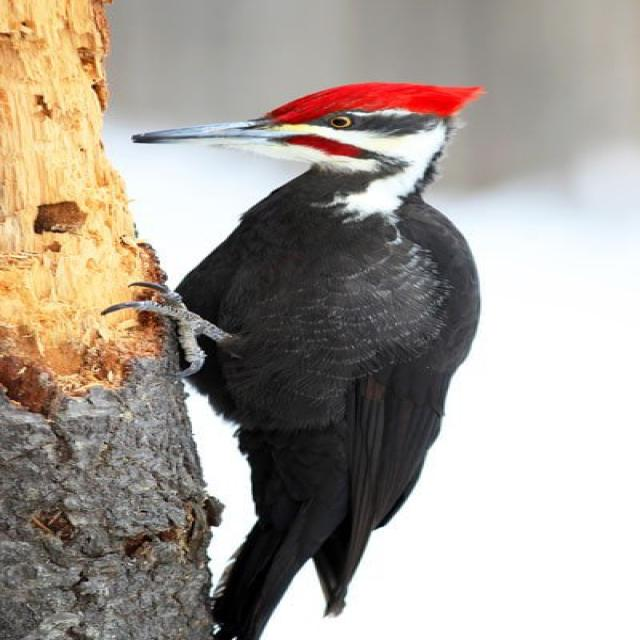Woodpecker: (119, 69, 489, 639)
